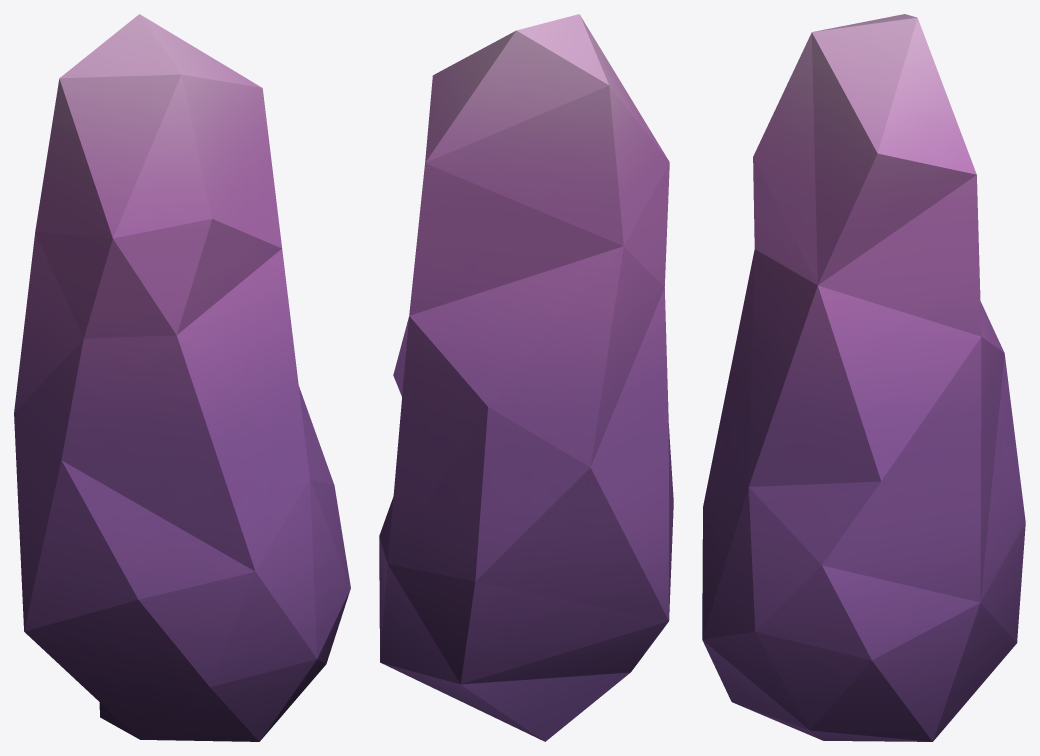
The picture shows the model from 3 angles, left to right: view 1: azimuth 30°, elevation 25°; view 2: azimuth 150°, elevation 25°; view 3: azimuth 270°, elevation 25°; orthographic projection.
Parts seen in each view (by area): view 1: Base_02; view 2: Base_02; view 3: Base_02.
Boxes of the visible parts, left/top/right/bottom form: Base_02: left=14, top=14, right=350, bottom=741; Base_02: left=379, top=14, right=673, bottom=741; Base_02: left=702, top=14, right=1025, bottom=741.
Size of the model in its own units: 1.44 by 3.28 by 1.37.
